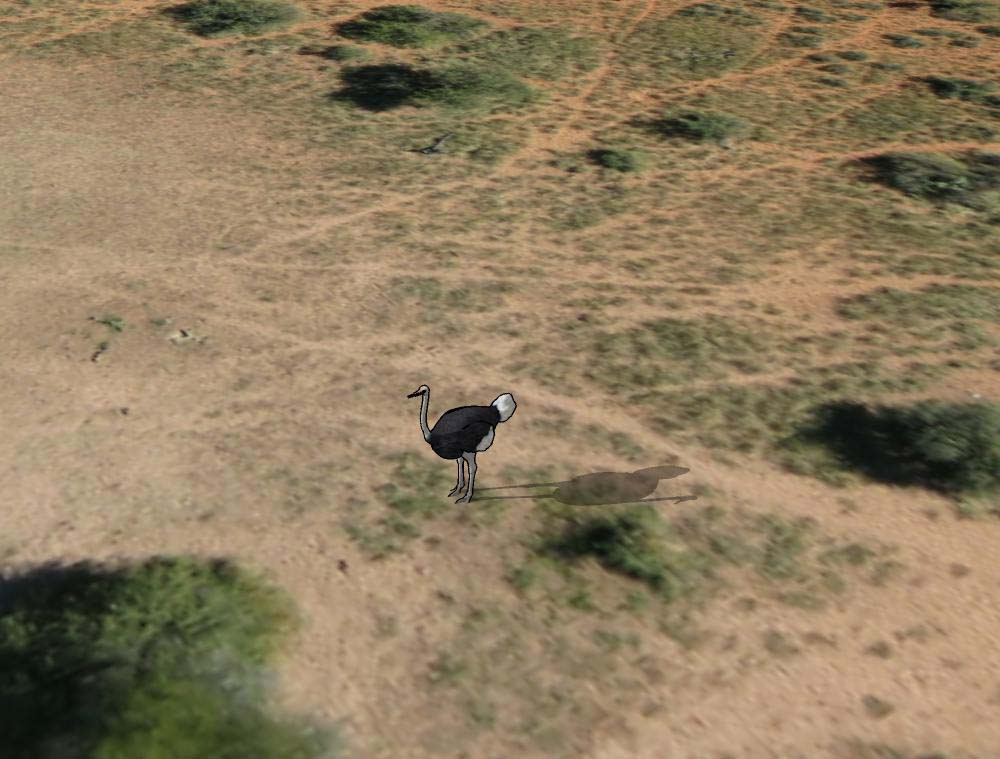springbok: (407, 382, 521, 503)
